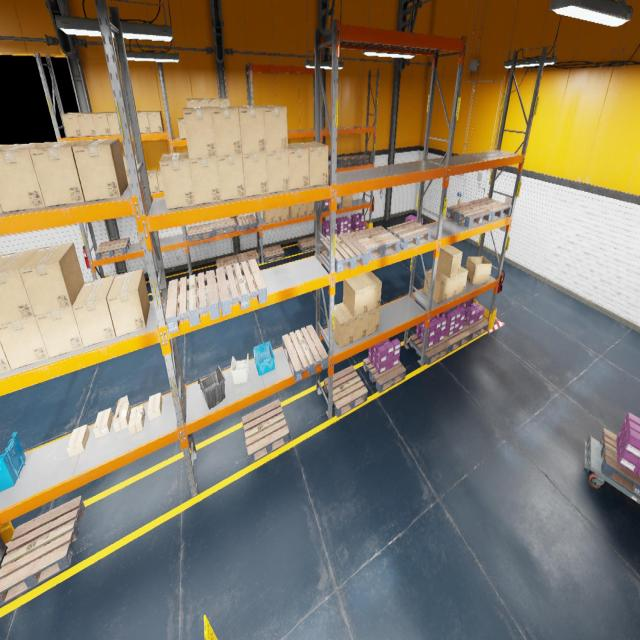box: (20, 242, 84, 315), (29, 140, 85, 207), (72, 138, 128, 202), (0, 142, 49, 212), (72, 276, 116, 346), (0, 248, 39, 325), (106, 269, 150, 337), (0, 316, 49, 369), (35, 306, 84, 358), (159, 152, 195, 209), (183, 106, 216, 158), (209, 106, 242, 157), (234, 106, 266, 154), (189, 157, 221, 204), (257, 106, 288, 152), (299, 141, 328, 187), (217, 155, 245, 200), (242, 152, 268, 197), (343, 276, 369, 317), (266, 150, 289, 193), (288, 143, 309, 190), (358, 271, 382, 312), (343, 303, 368, 342), (334, 302, 354, 348), (424, 268, 449, 304), (437, 245, 462, 277), (465, 256, 492, 284), (67, 424, 89, 457), (436, 268, 458, 300), (112, 395, 130, 432), (0, 144, 9, 212), (93, 408, 113, 438), (61, 112, 82, 137), (128, 405, 145, 435), (77, 113, 96, 136), (147, 392, 162, 420), (92, 112, 110, 135), (366, 307, 380, 336), (137, 230, 159, 248), (147, 111, 164, 133), (0, 340, 11, 373), (456, 266, 468, 295), (106, 112, 120, 135), (136, 111, 150, 133), (147, 169, 159, 192), (177, 118, 186, 139), (156, 169, 164, 191), (122, 153, 129, 176), (340, 194, 352, 207), (263, 209, 273, 223), (289, 205, 299, 218), (281, 206, 289, 220), (274, 208, 282, 222), (134, 153, 139, 175), (306, 202, 314, 214), (208, 98, 220, 106), (186, 99, 198, 107), (299, 203, 306, 216), (219, 98, 230, 106), (198, 98, 209, 106), (130, 122, 132, 133), (127, 177, 130, 183), (139, 175, 140, 182)
pallets: (0, 496, 85, 606), (165, 270, 220, 334), (242, 399, 289, 464), (216, 259, 267, 316), (600, 428, 640, 498), (282, 325, 328, 382), (323, 366, 368, 417), (320, 232, 369, 273), (350, 226, 400, 260), (363, 357, 406, 393), (388, 221, 432, 250), (409, 334, 450, 365), (446, 202, 492, 228), (468, 197, 512, 221), (95, 238, 130, 260), (442, 327, 471, 352), (462, 318, 489, 340), (188, 223, 212, 242), (212, 218, 236, 235), (236, 214, 258, 232), (263, 245, 284, 262), (237, 250, 260, 265), (216, 255, 239, 268), (298, 236, 316, 252), (350, 154, 372, 164), (336, 156, 356, 166), (322, 202, 340, 212), (337, 232, 351, 240), (351, 228, 366, 232)
